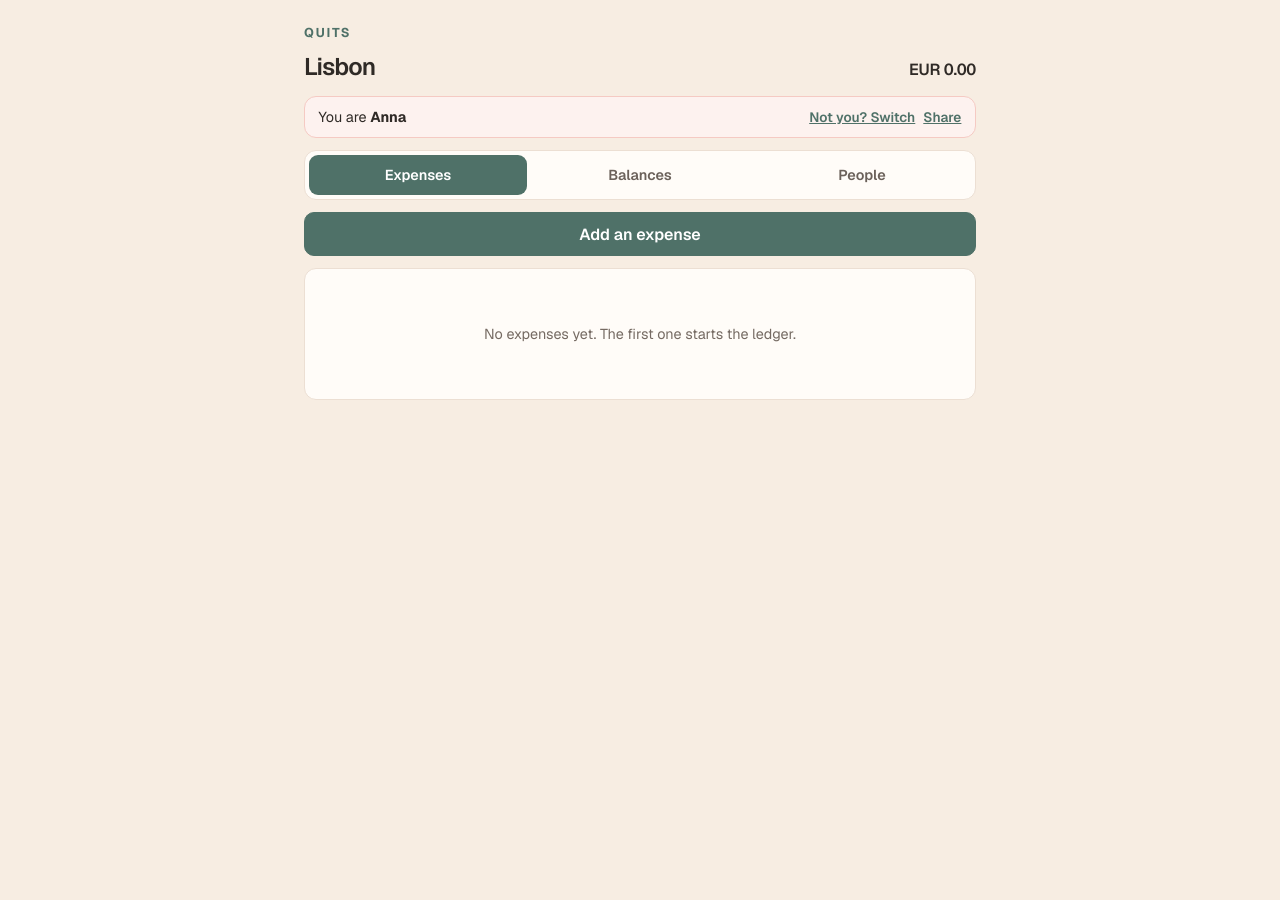
Scenario: adding an expense — SPEC §7.10 to §7.14 › refuses to save exact amounts that do not add up
Click the button "Add an expense" at (640, 234), box 304,212 -> 976,256
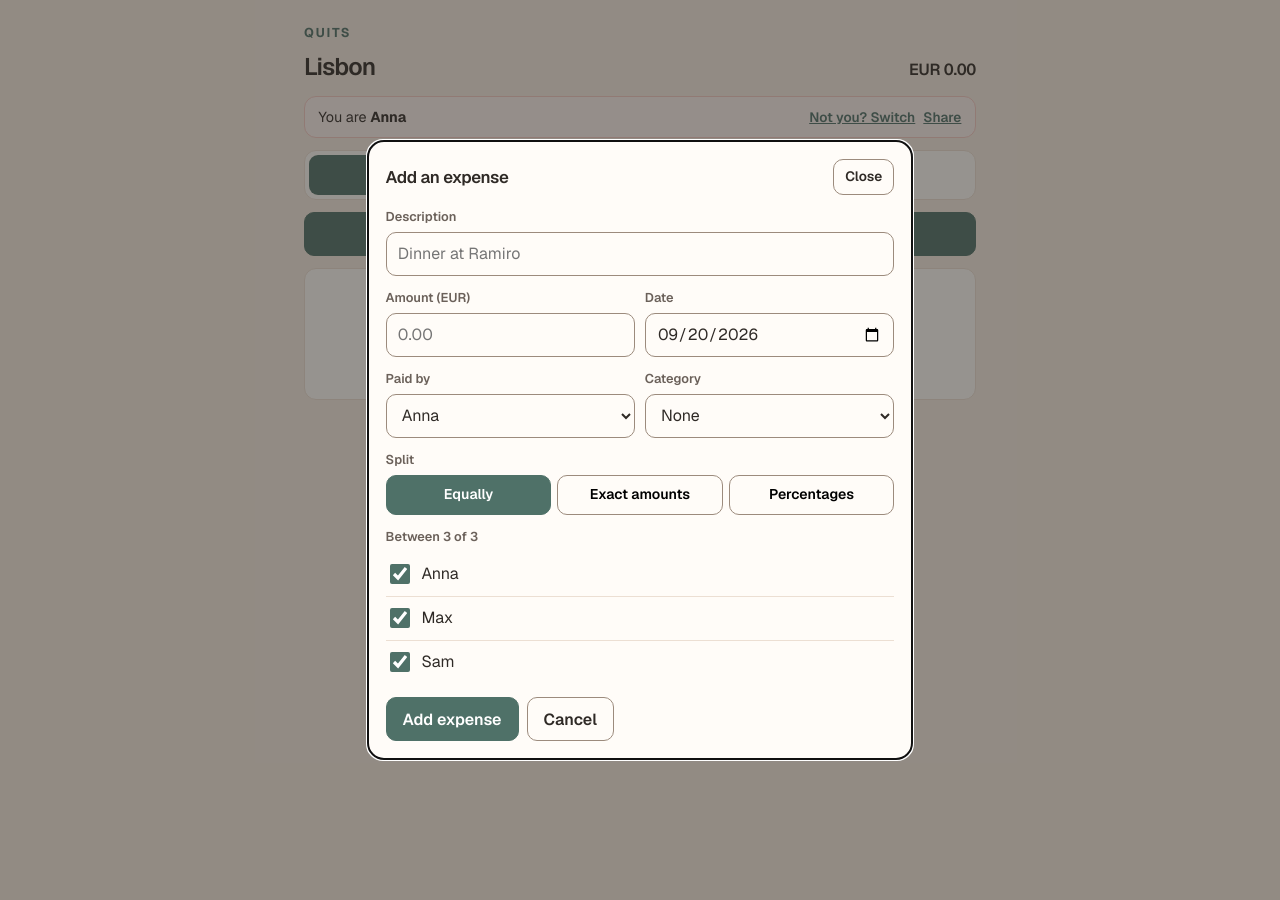
Type "Dinner" into the field labelled "Description" at (640, 254), box 386,232 -> 894,276
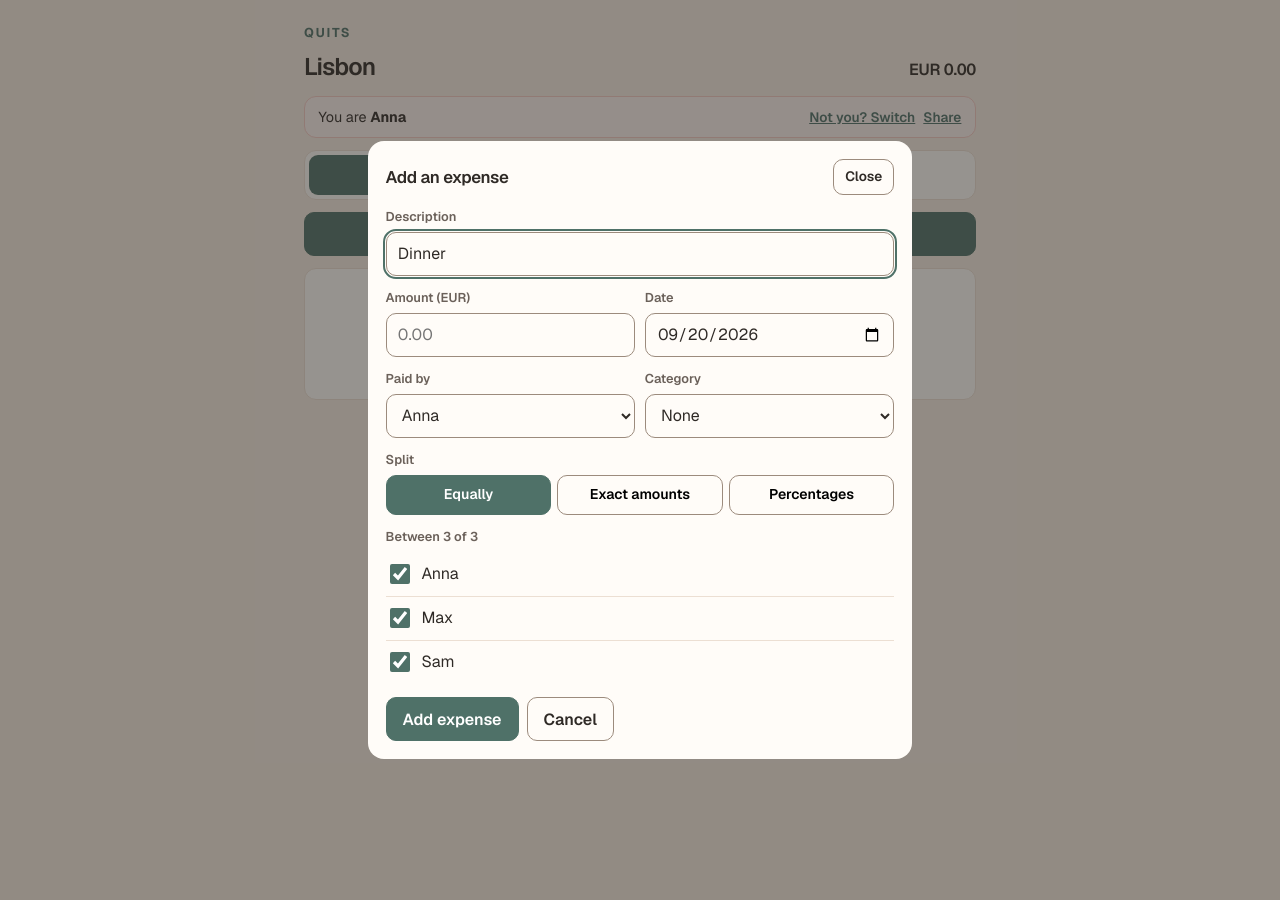
Type "10.00" into the field labelled "Amount (EUR)" at (510, 335), box 386,313 -> 635,357
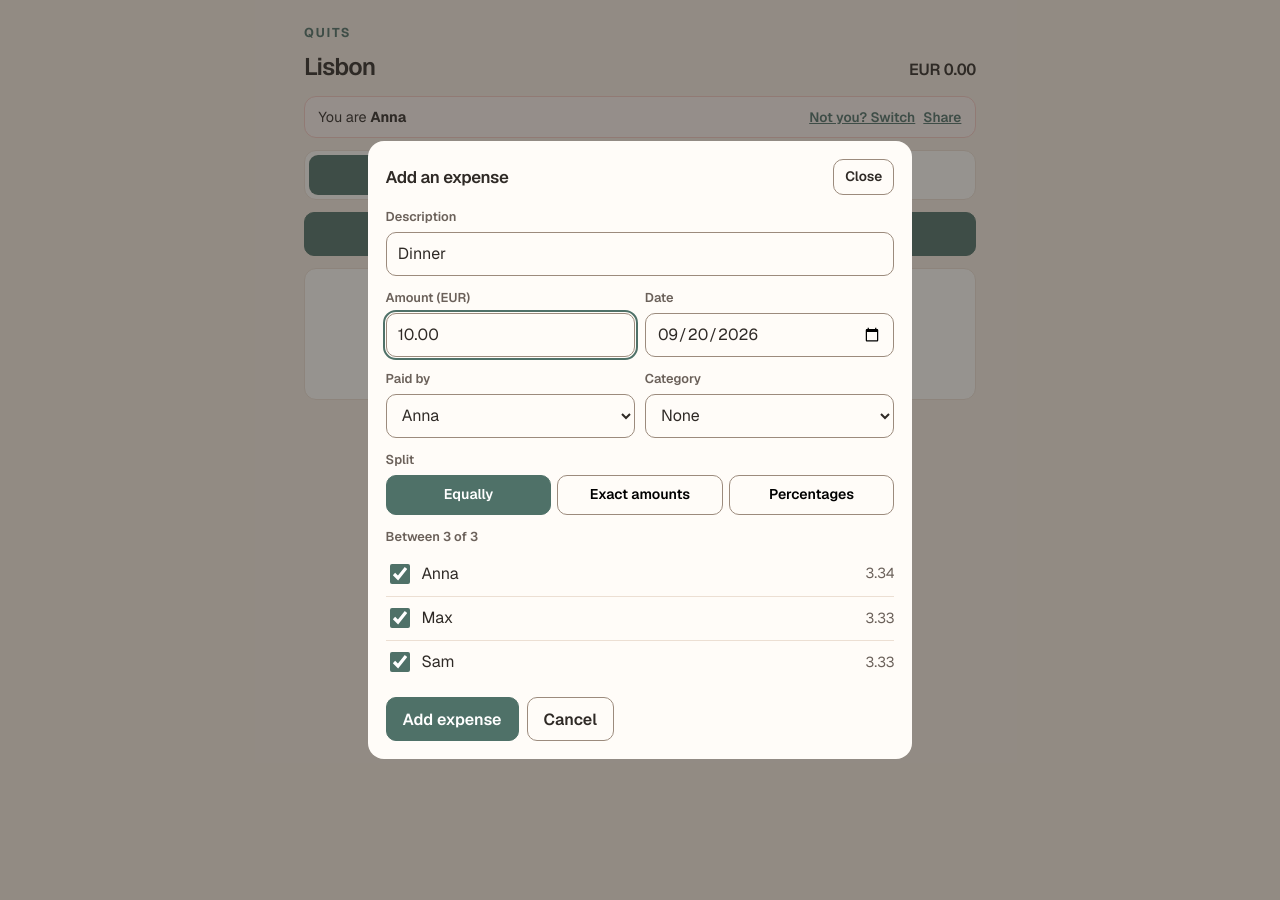
Click the button "Exact amounts" at (640, 495), box 557,475 -> 723,515
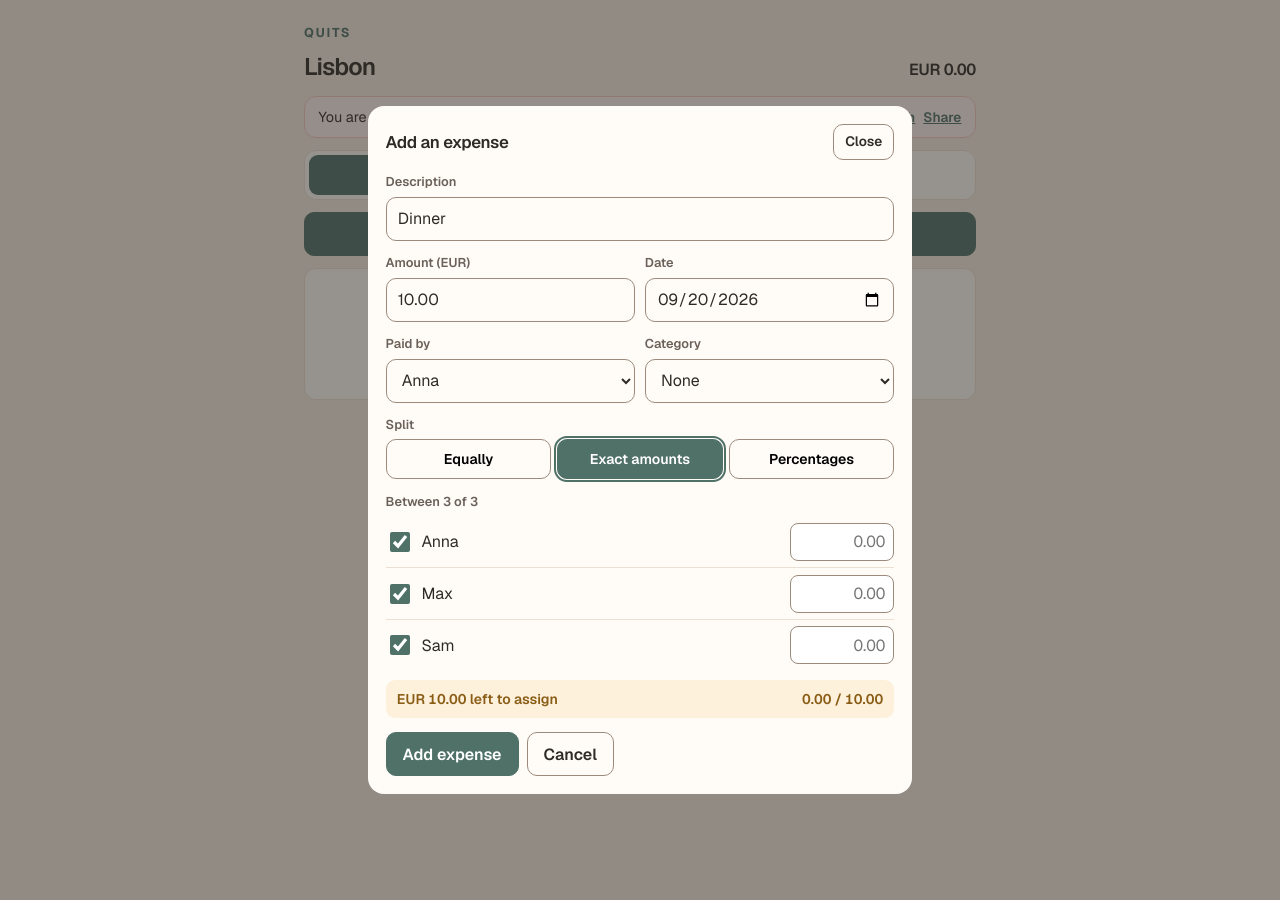
Type "3.00" into the field named "amount for anna" at (842, 542), box 790,523 -> 894,561
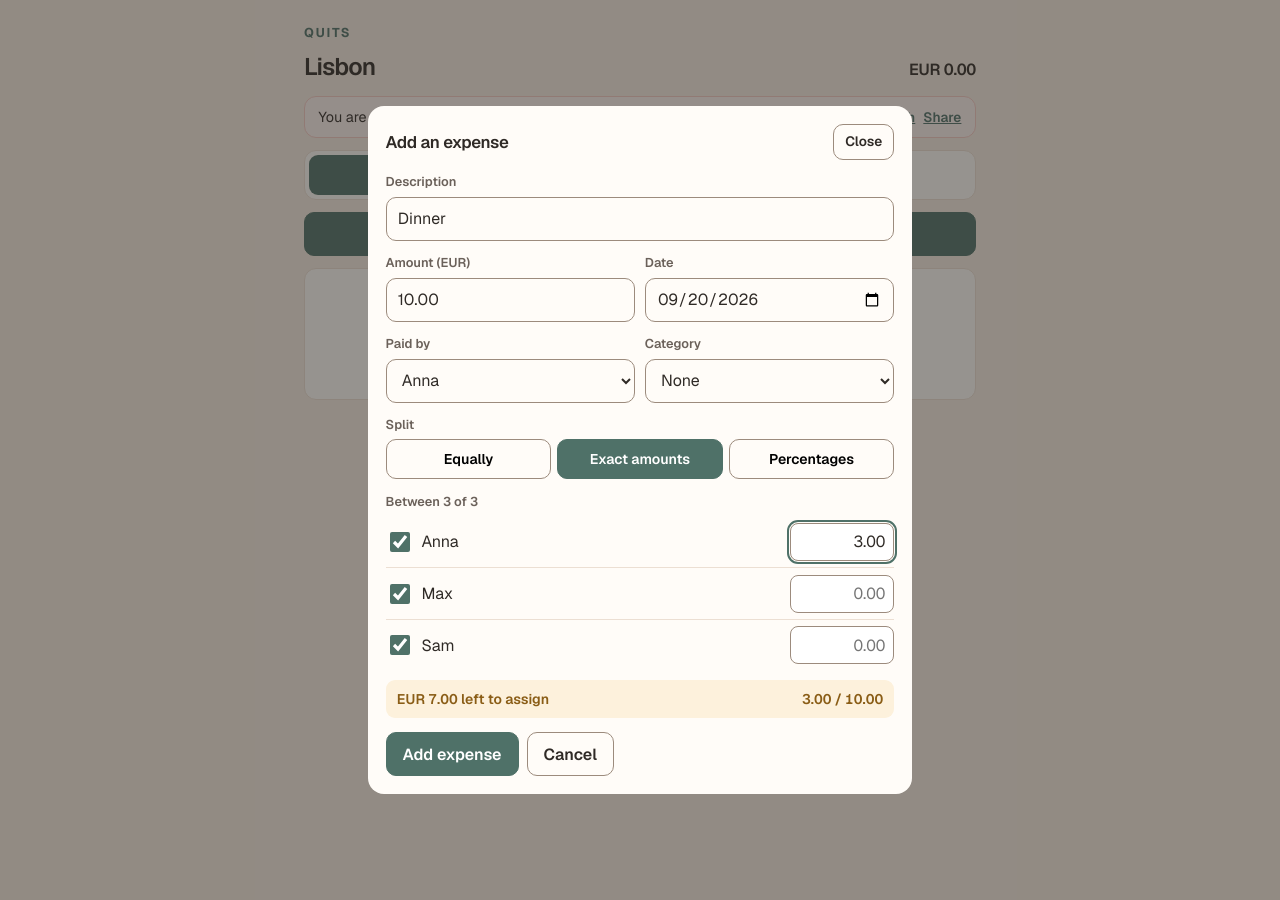
Click the button "Add expense" at (452, 754), box 386,732 -> 519,776
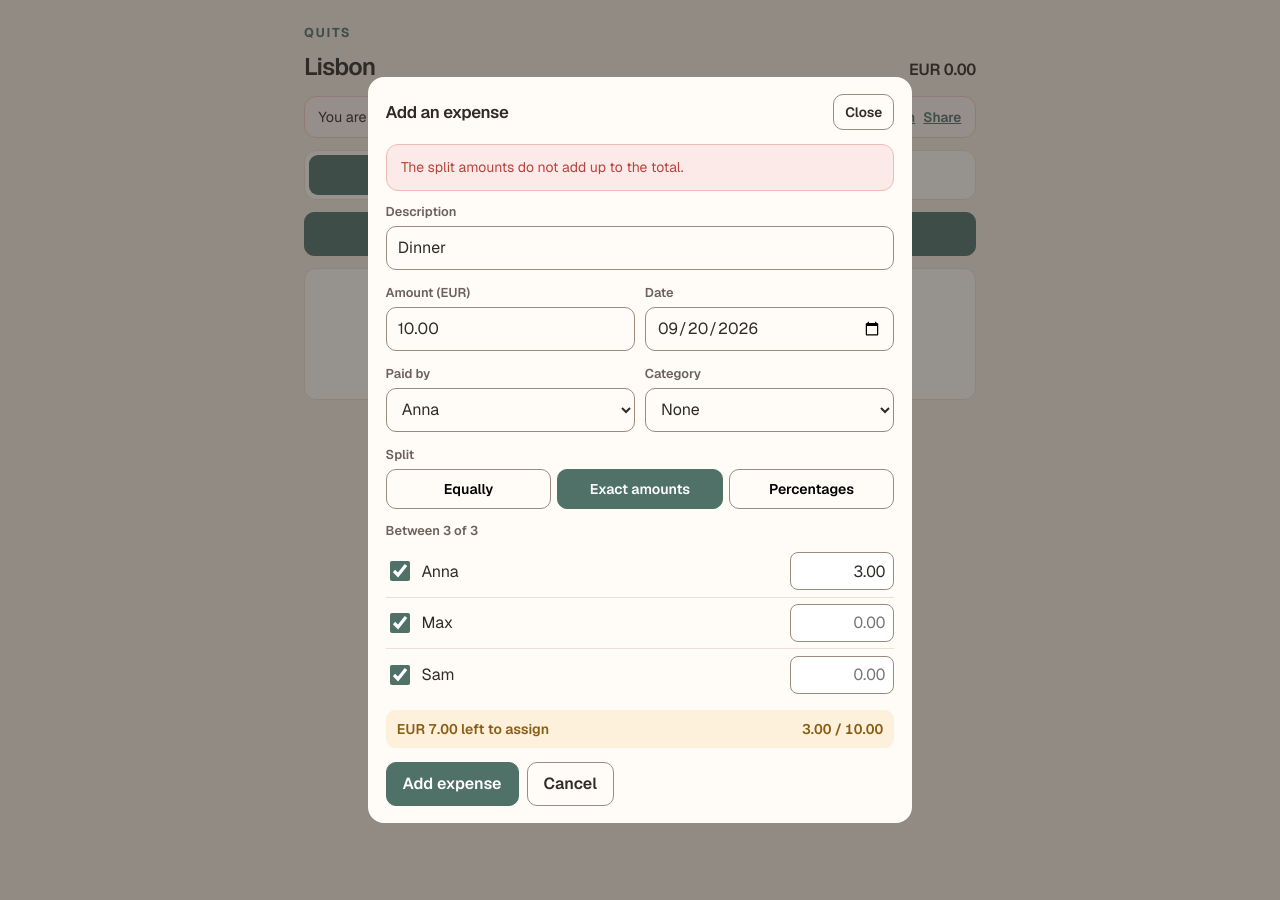
Expected: the message shows "do not add up", 401,158 -> 684,176
